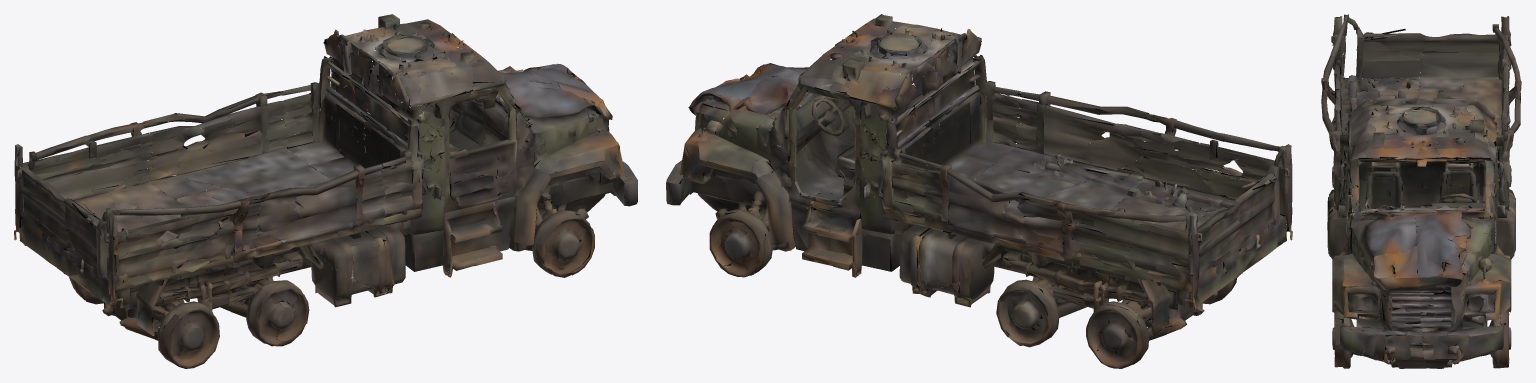
File: prop_wreck.glb
3 renders of one model, left to right at view 1: azimuth 30°, elevation 25°; view 2: azimuth 150°, elevation 25°; view 3: azimuth 270°, elevation 25°, orthographic. The views are drawn at different scales.
Visible parts, largest first — view 1: prop_wreck; view 2: prop_wreck; view 3: prop_wreck.
Part boxes in pixels (box(x1,y1,x2,y2)): prop_wreck: box(14, 14, 637, 368); prop_wreck: box(666, 14, 1292, 368); prop_wreck: box(1321, 14, 1521, 368).
Bounding box in the file's own units: 6.51 × 2.61 × 2.31.
1 material, 1 textured.
